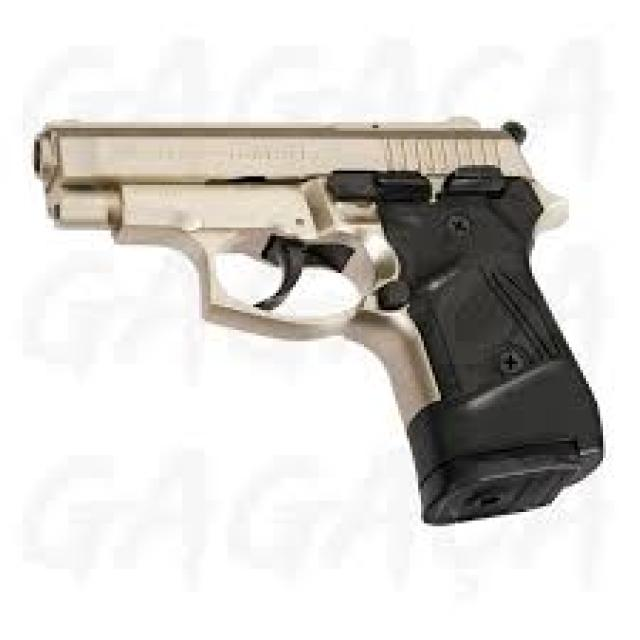pistol: (23, 98, 611, 533)
